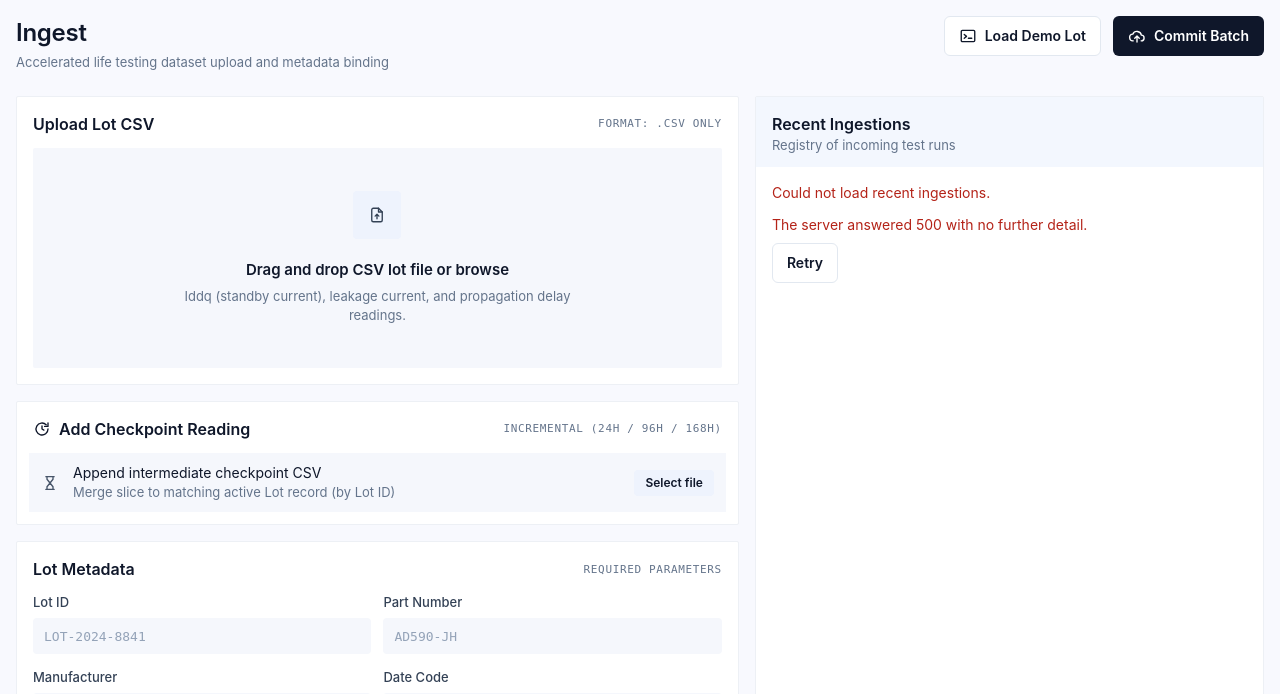
Test: Ingest screen (E6 screen 2, E7) › a failed GET /projects is shown with a retry, not as an empty list
Expected: the message shows "Could not load recent ingestions", [772,184,990,201]
What coordinates should you click on to do the following:
click the button "Retry"
I would click on:
 (805, 263)
Its box is [772,243,838,283].
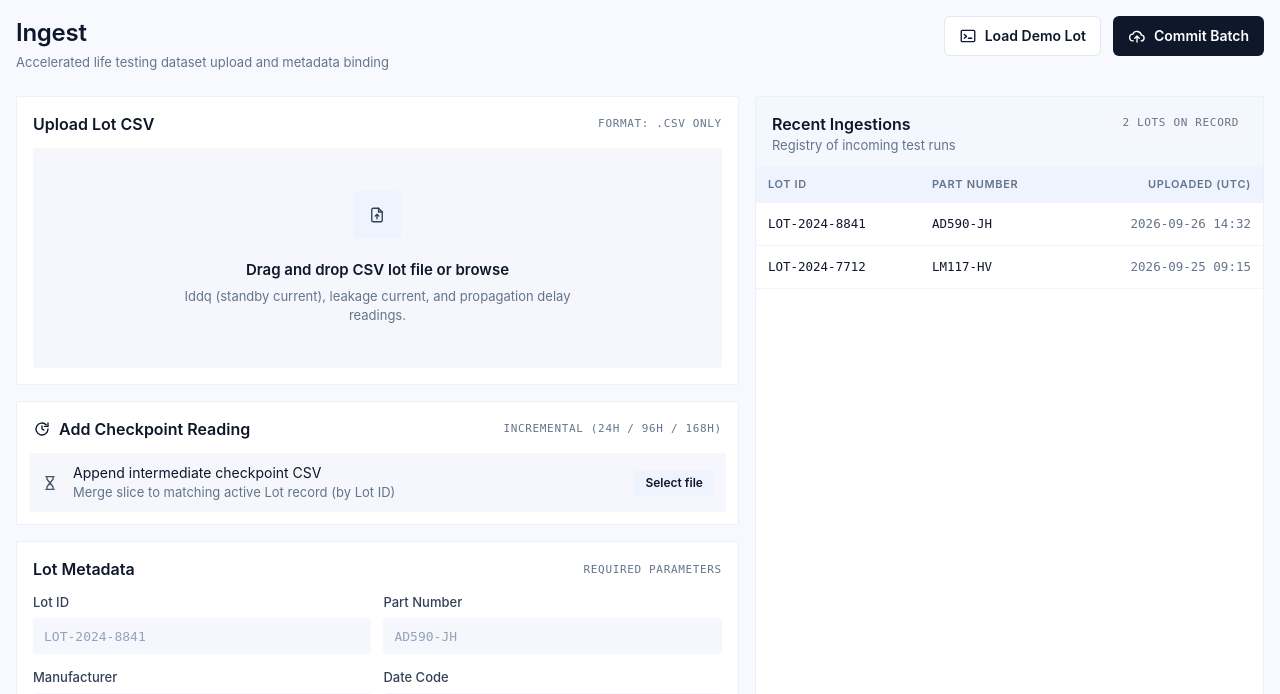
Expected: the link "LOT-2024-8841" is shown, [768,216,866,231]
